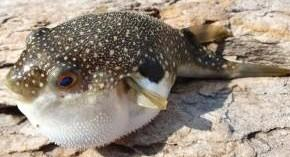fish: (7, 11, 289, 147)
